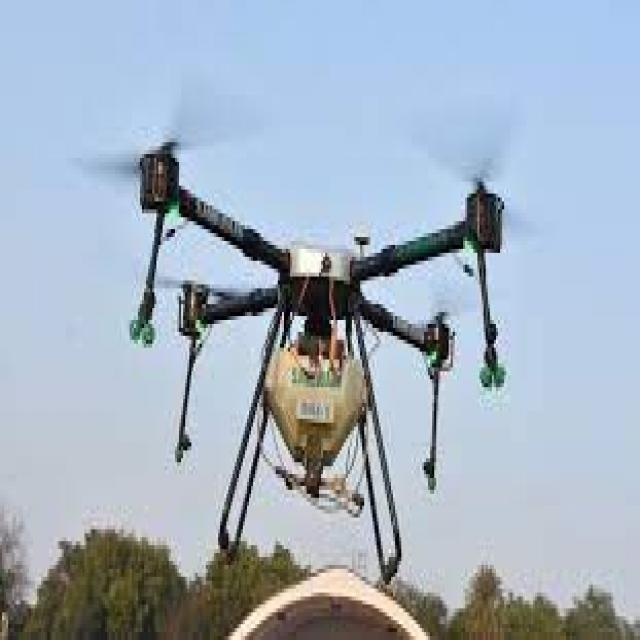drones: (66, 69, 552, 586)
